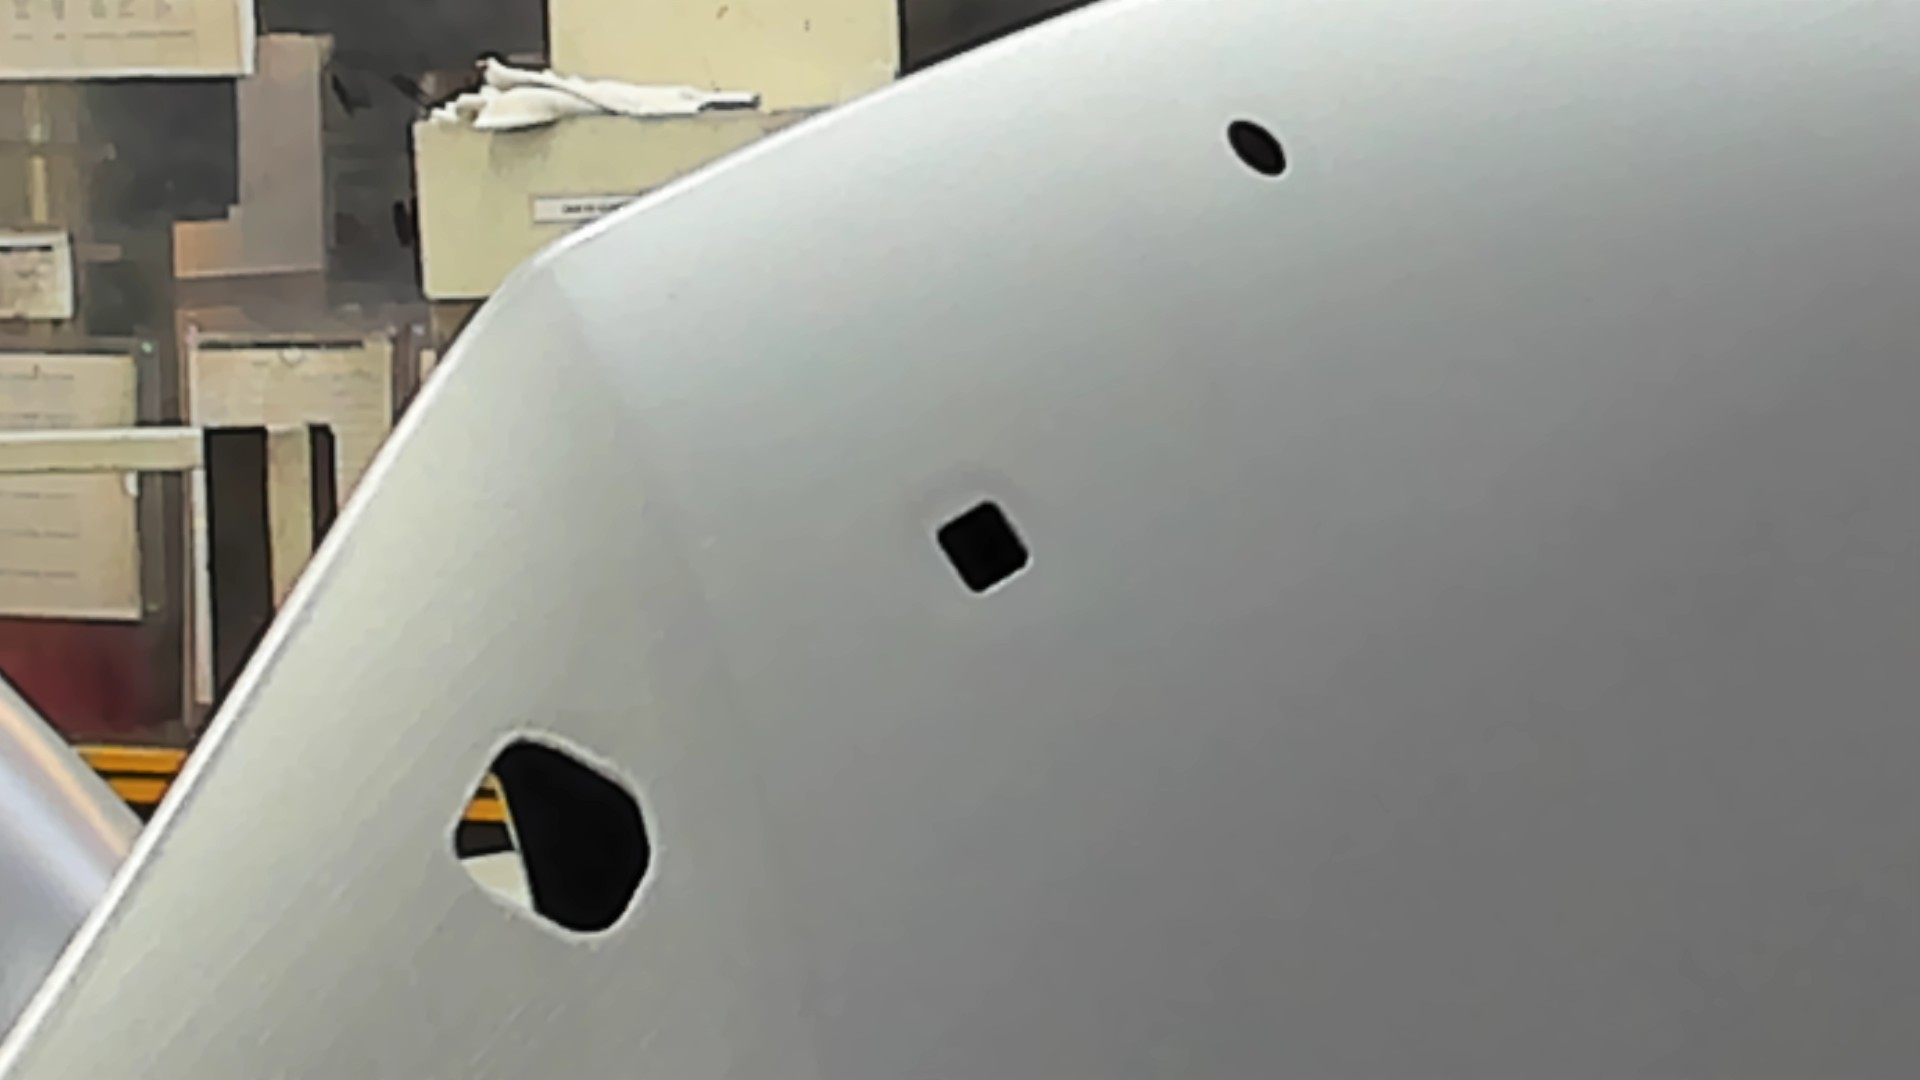chico: (1225, 117, 1292, 182)
grande: (443, 727, 666, 949)
mediano: (924, 491, 1039, 601)
